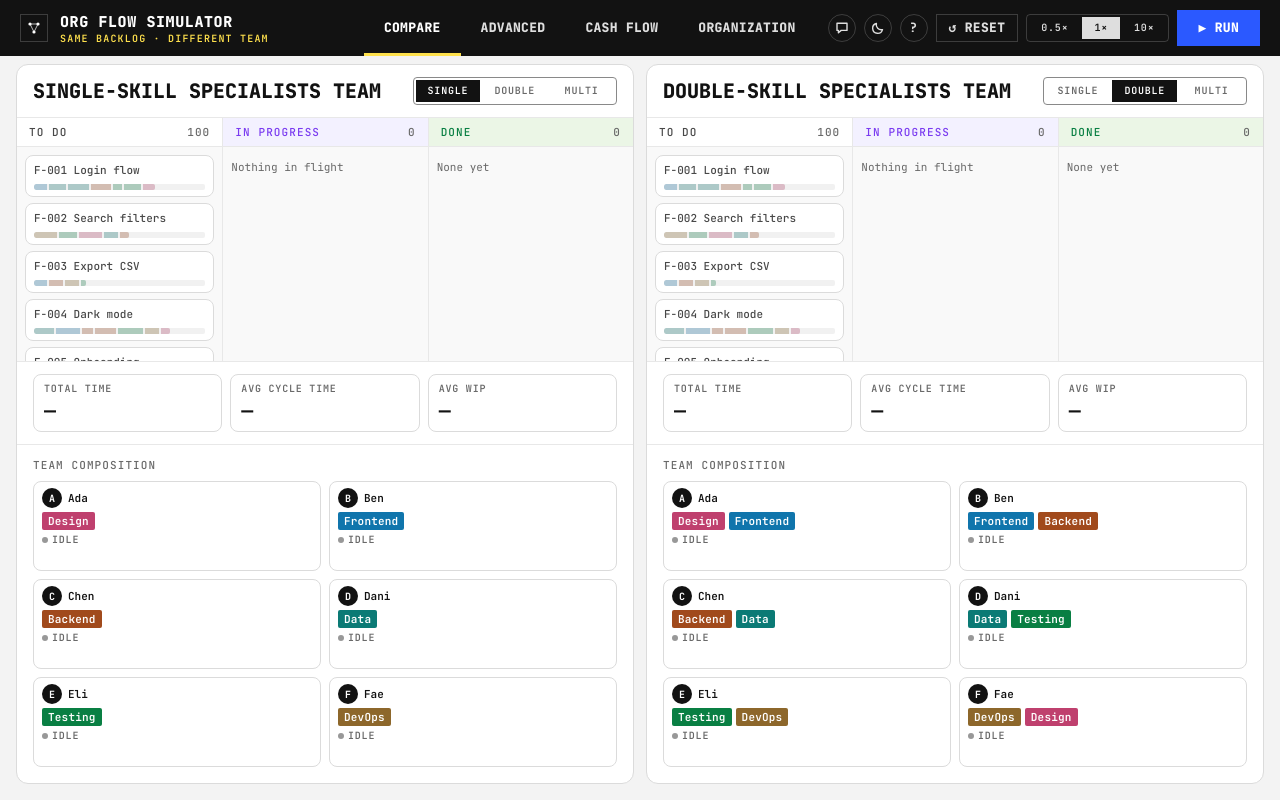
Scenario: feat-019 Příklad 8: nastavení AI u skillu v Simulatoru › Advanced a Cash Flow mají vlastní týmy: AI nastavené v Cash Flow se v Advanced neprojeví
Click the tab "Cash Flow" at (622, 28), box [565, 0, 678, 56]
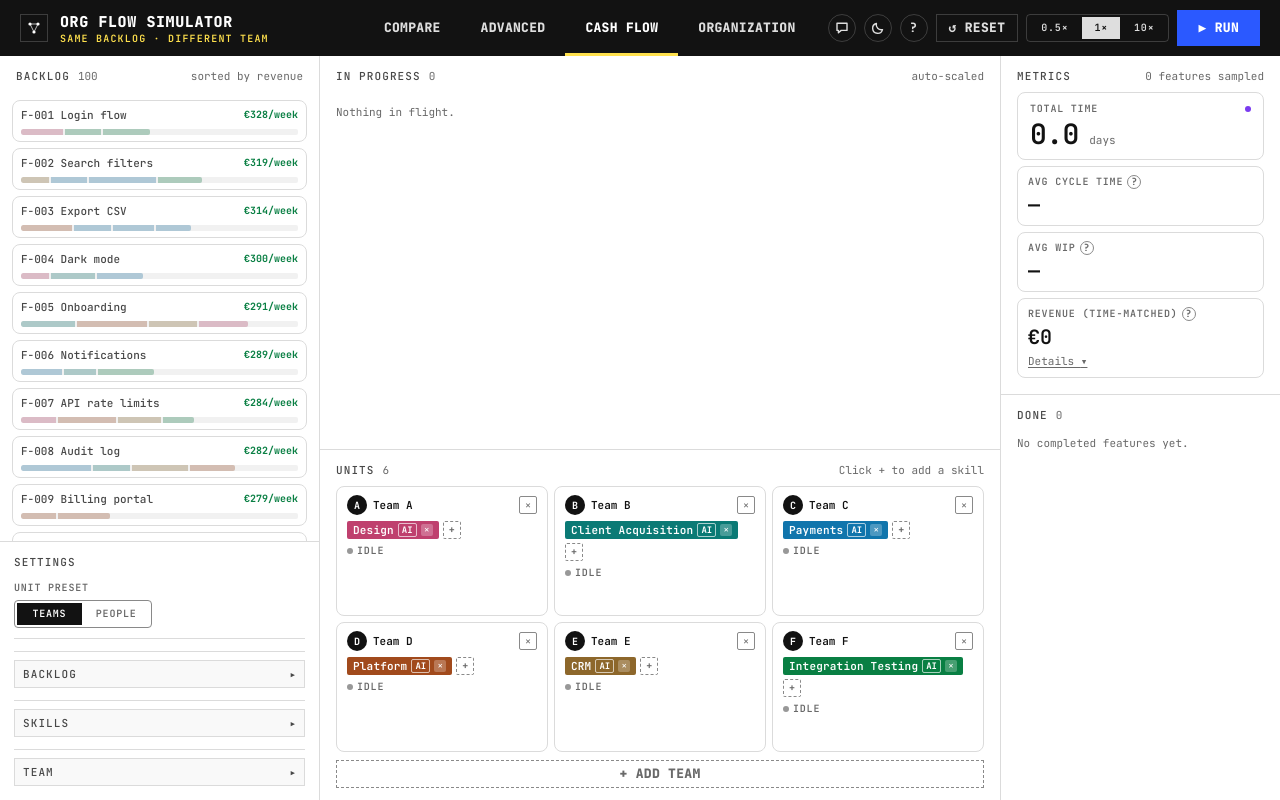
Click the button with aria-label "AI speed-up for " at (407, 530), box [398, 523, 417, 537]
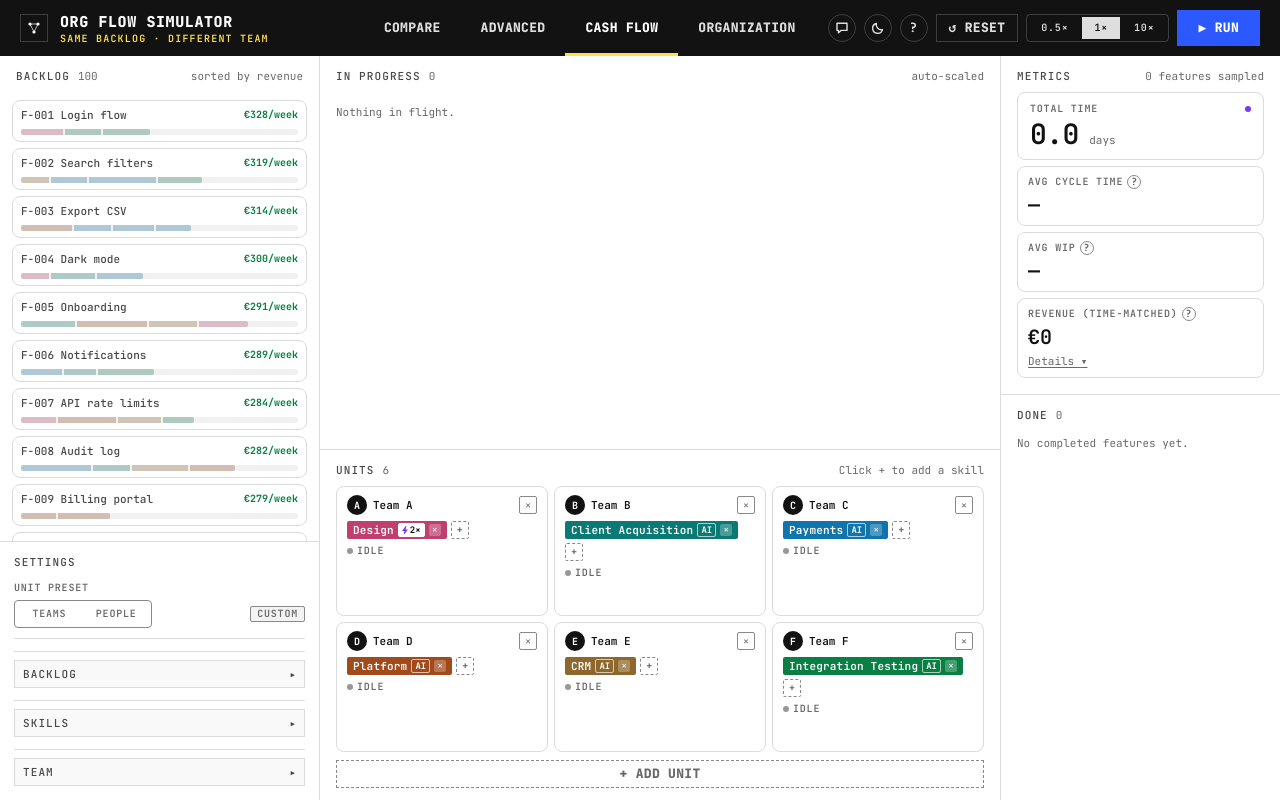
Click the button named "AI speed-up for " at (411, 530), box [398, 523, 425, 537]
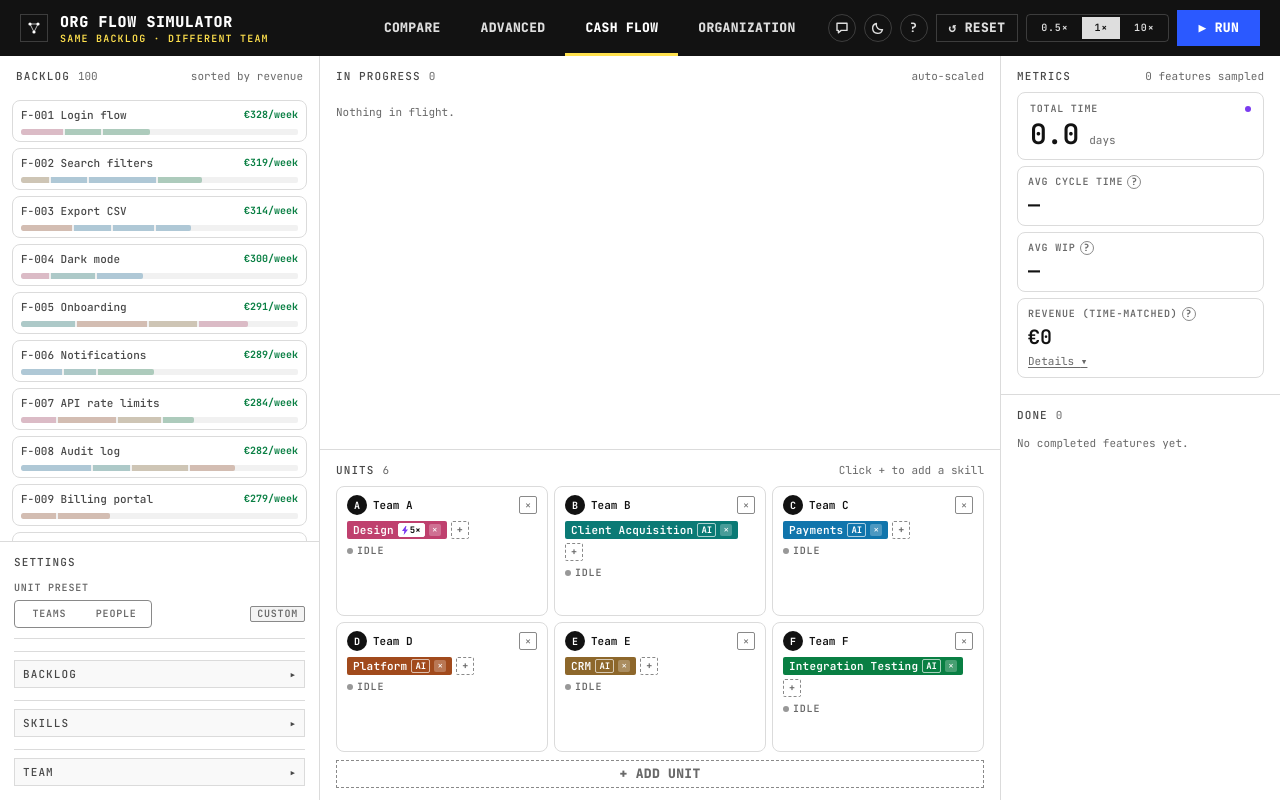
Expected: the button named "AI speed-up for " reads "5×", [398, 523, 425, 537]
Click the tab "Advanced" at (513, 28), box [461, 0, 565, 56]
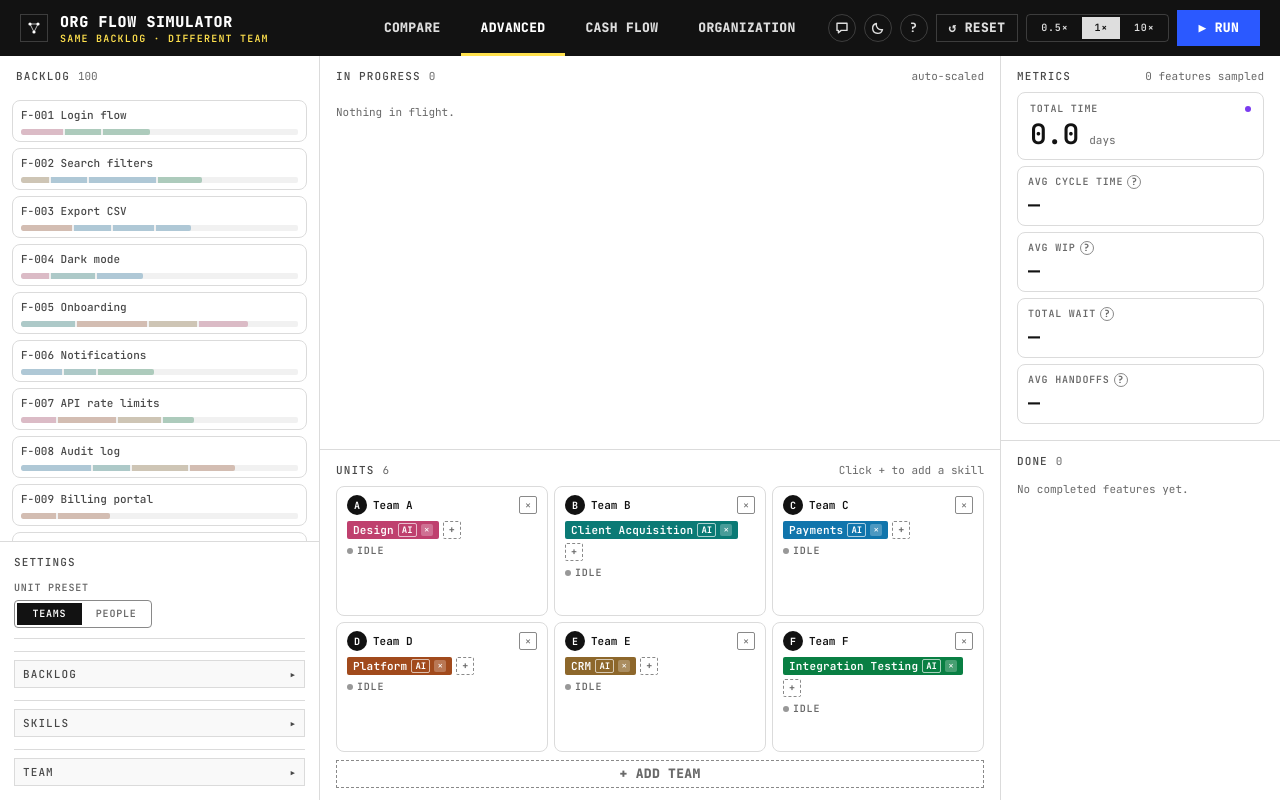
Expected: the button with aria-label "AI speed-up for " reads "AI", [398, 523, 417, 537]
Click the tab "Cash Flow" at (622, 28), box [565, 0, 678, 56]
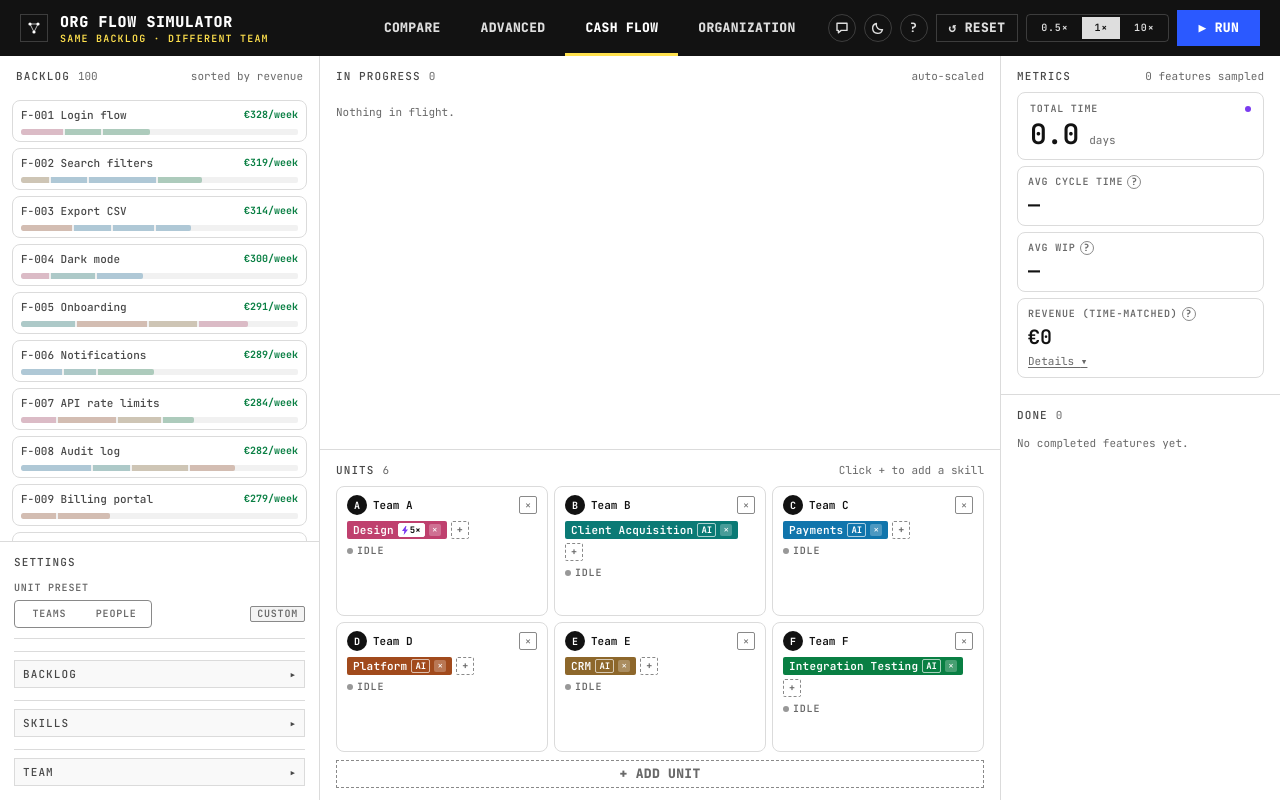
Expected: the button named "AI speed-up for " reads "5×", [398, 523, 425, 537]
